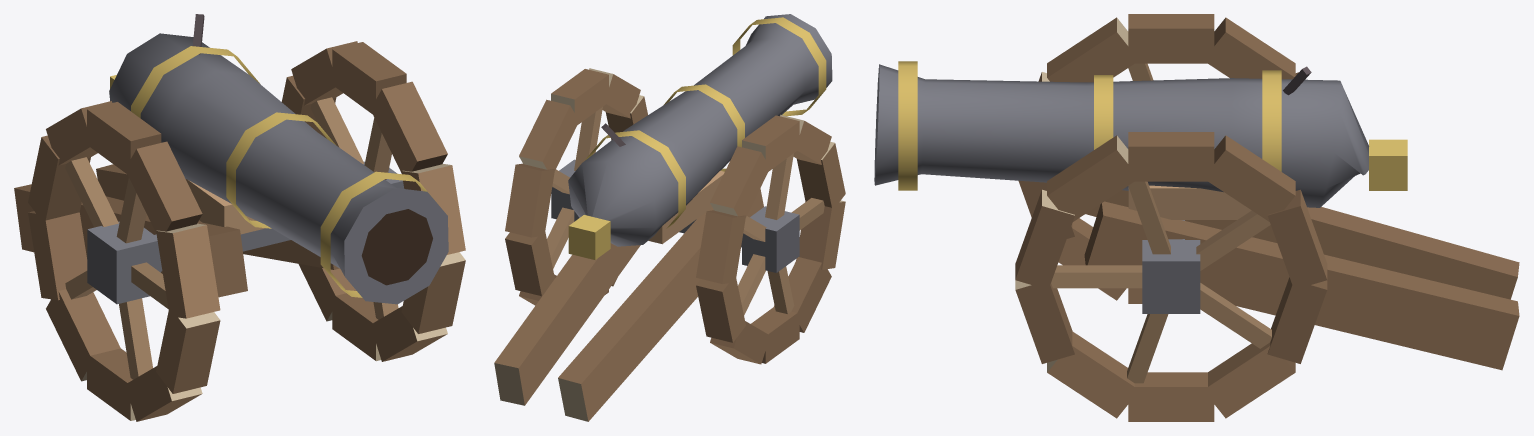
The model's file is cannon.glb.
3 views of the same model, side by side, from view 1: azimuth 30°, elevation 25°; view 2: azimuth 150°, elevation 25°; view 3: azimuth 270°, elevation 25° (orthographic). The views are drawn at different scales.
Visible parts, largest first — view 1: cannon; view 2: cannon; view 3: cannon.
Part boxes in pixels (left/top/right/bottom): cannon: left=14, top=14, right=465, bottom=421; cannon: left=494, top=14, right=845, bottom=421; cannon: left=874, top=14, right=1519, bottom=421.
Size of the model in its own units: 1.7 by 1.7 by 3.33.
